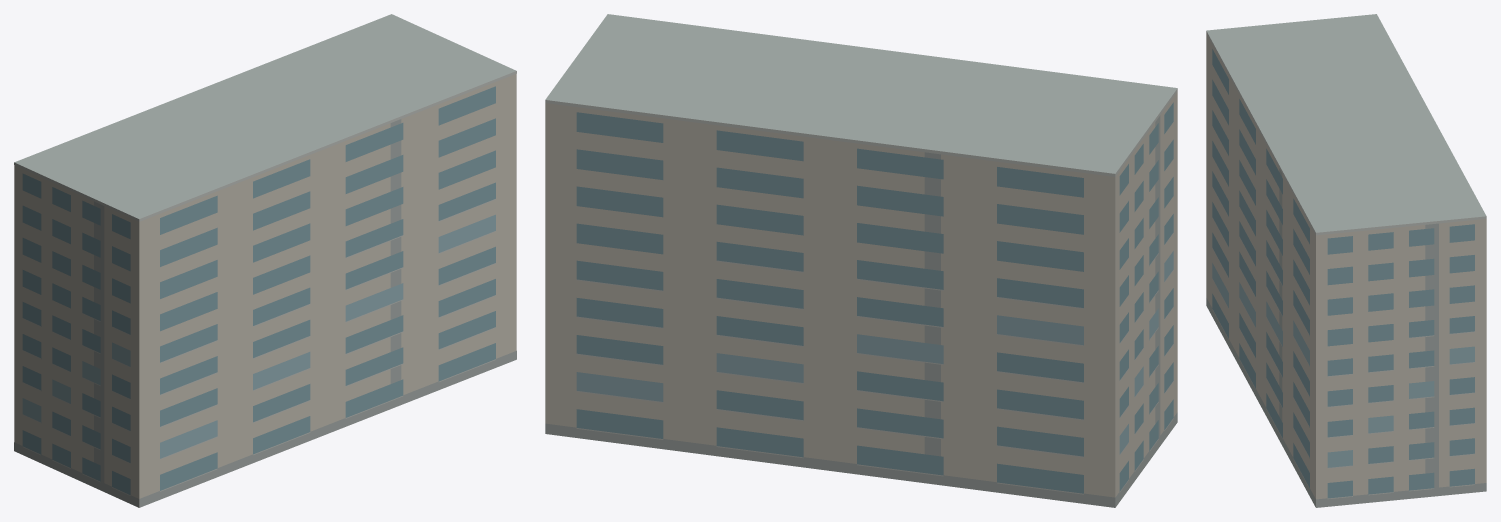
Rendered from residential-42a9d520-007c-437c-a6b8-5ffa5edc7df9.glb.
3 views of the same model, side by side, from view 1: azimuth 30°, elevation 25°; view 2: azimuth 150°, elevation 25°; view 3: azimuth 270°, elevation 25° (orthographic). The views are drawn at different scales.
Parts seen in each view (by area): view 1: residential-42a9d520-007c-437c-a6b8-5ffa5edc7df9.tmp; view 2: residential-42a9d520-007c-437c-a6b8-5ffa5edc7df9.tmp; view 3: residential-42a9d520-007c-437c-a6b8-5ffa5edc7df9.tmp.
Part boxes in pixels (box(x1,y1,x2,y2)): residential-42a9d520-007c-437c-a6b8-5ffa5edc7df9.tmp: box(14, 14, 516, 507); residential-42a9d520-007c-437c-a6b8-5ffa5edc7df9.tmp: box(545, 14, 1177, 507); residential-42a9d520-007c-437c-a6b8-5ffa5edc7df9.tmp: box(1206, 14, 1486, 507).
Size of the model in its own units: 44.37 by 26 by 24.02.
